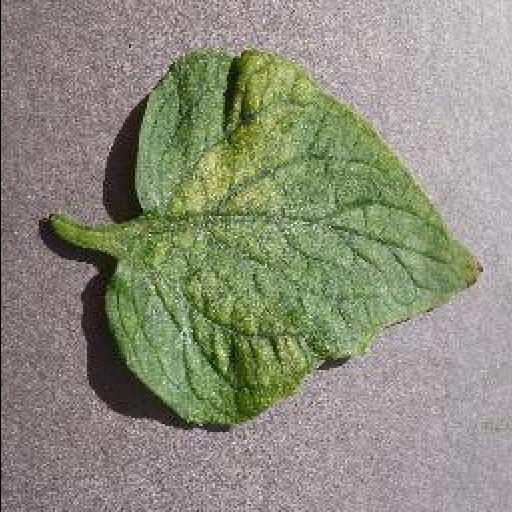disease_tomato: (104, 46, 482, 430)
